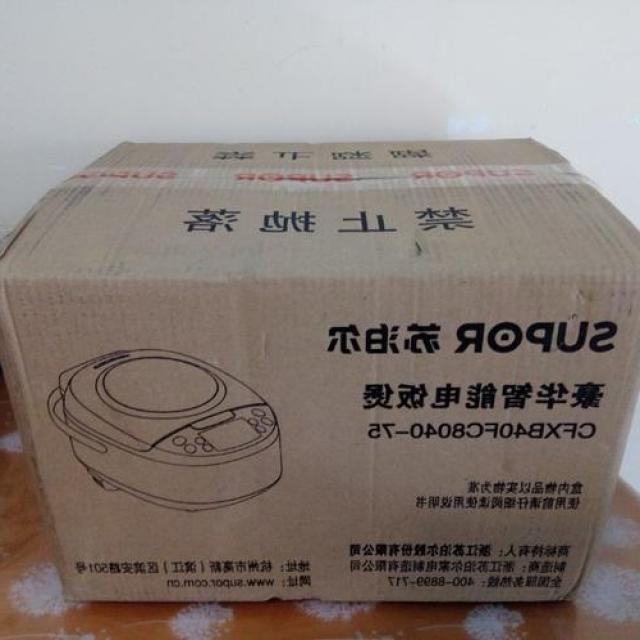cardboard: (11, 132, 640, 603)
